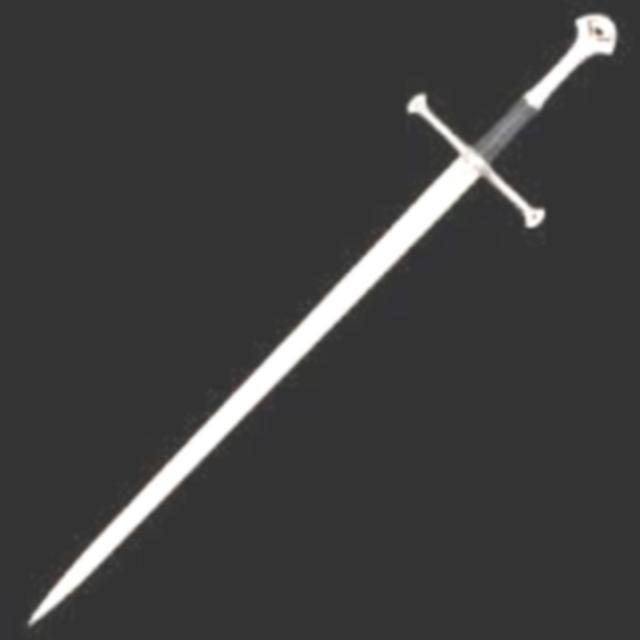long sword: (14, 9, 632, 627)
